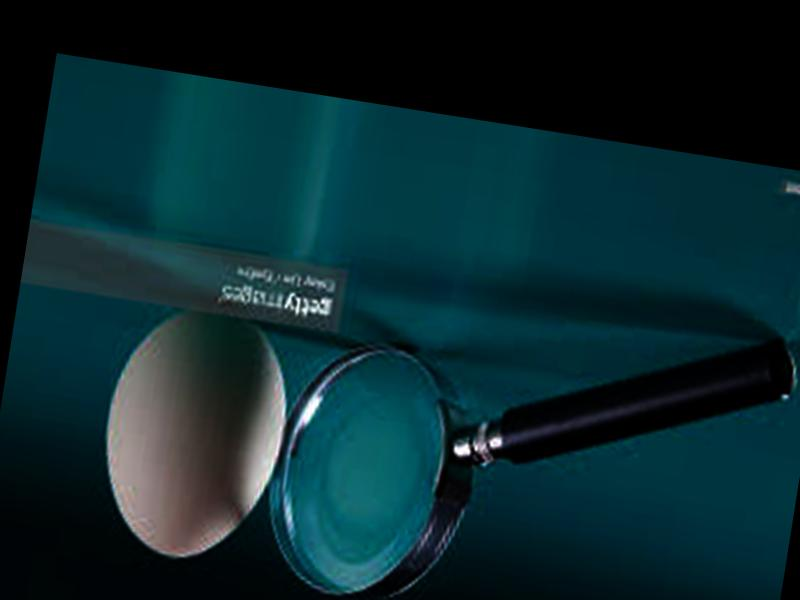Eggs: (87, 296, 302, 573)
